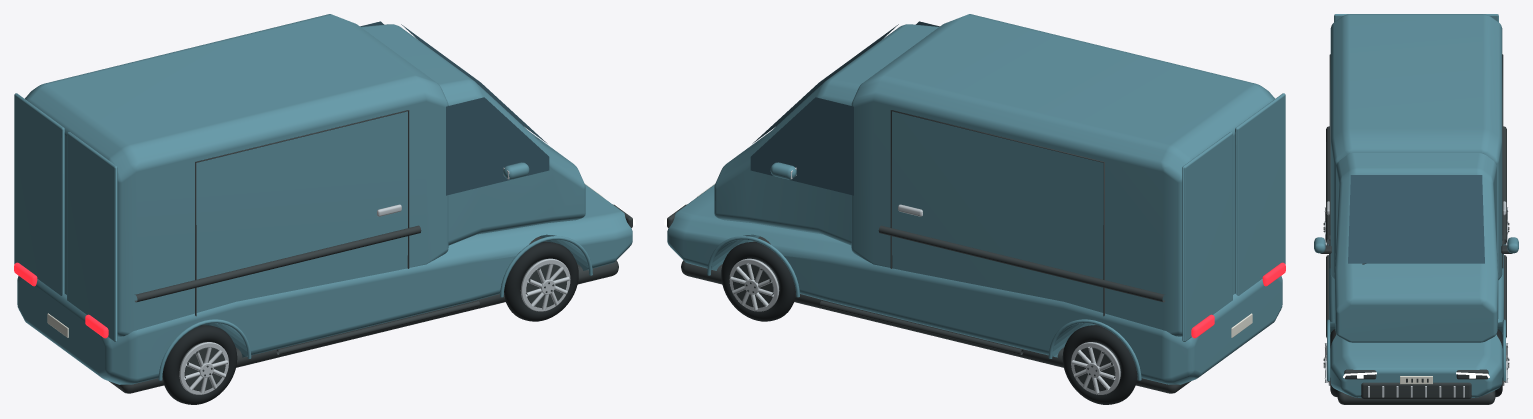
File: van.glb
3 views of the same model, side by side, from view 1: azimuth 30°, elevation 25°; view 2: azimuth 150°, elevation 25°; view 3: azimuth 270°, elevation 25° (orthographic). The views are drawn at different scales.
Visible parts, largest first — view 1: van_BodyPaint, van_Graphite, van_SmokedGlass, van_Rubber, van_MachinedAluminum, van_RearLens; view 2: van_BodyPaint, van_Graphite, van_SmokedGlass, van_Rubber, van_MachinedAluminum, van_RearLens; view 3: van_BodyPaint, van_SmokedGlass, van_Graphite, van_MachinedAluminum, van_Rubber, van_Plate, van_LED.
Boxes of the visible parts, x1,y1,x2,y2 form: van_BodyPaint: (14, 14, 632, 384); van_Graphite: (109, 110, 632, 393); van_SmokedGlass: (360, 21, 549, 195); van_Rubber: (162, 242, 578, 404); van_MachinedAluminum: (179, 167, 570, 394); van_RearLens: (14, 262, 108, 338); van_BodyPaint: (667, 14, 1285, 384); van_Graphite: (667, 110, 1190, 393); van_SmokedGlass: (750, 21, 939, 195); van_Rubber: (721, 242, 1137, 404); van_MachinedAluminum: (729, 167, 1120, 394); van_RearLens: (1191, 262, 1285, 338); van_BodyPaint: (1314, 14, 1518, 397); van_SmokedGlass: (1348, 175, 1484, 263); van_Graphite: (1320, 54, 1512, 404); van_MachinedAluminum: (1315, 201, 1517, 397); van_Rubber: (1330, 329, 1502, 397); van_Plate: (1400, 376, 1432, 384); van_LED: (1343, 372, 1489, 378).
Size of the model in its own units: 5.29 by 2.53 by 2.15.
